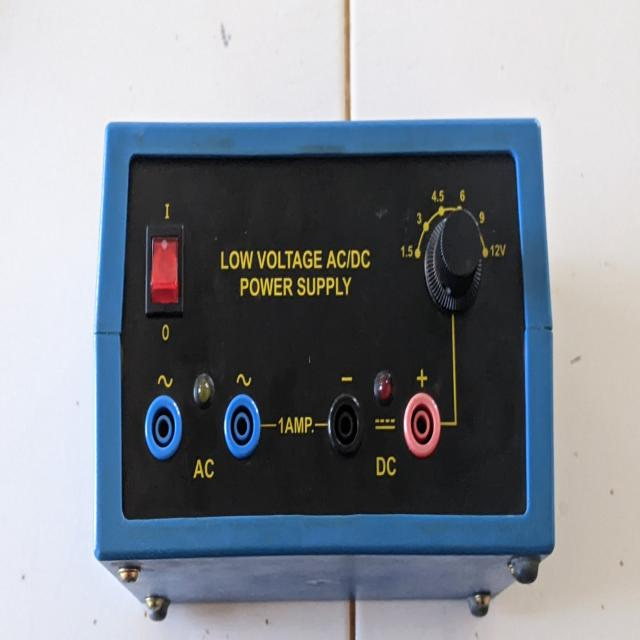Low Voltage AC-DC Power Supply 12 V: (89, 107, 569, 631)
